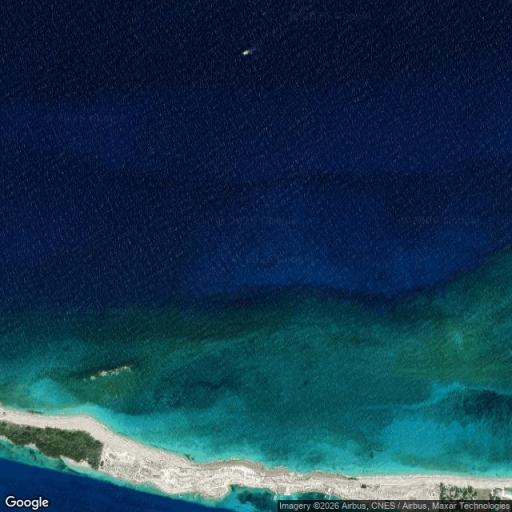ship: (226, 33, 282, 62)
